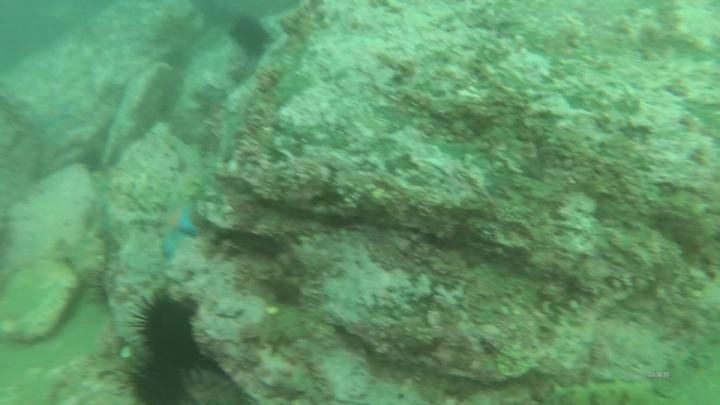echinus: (140, 290, 209, 368), (126, 353, 199, 405), (231, 12, 270, 55)
starfish: (149, 199, 200, 259)
